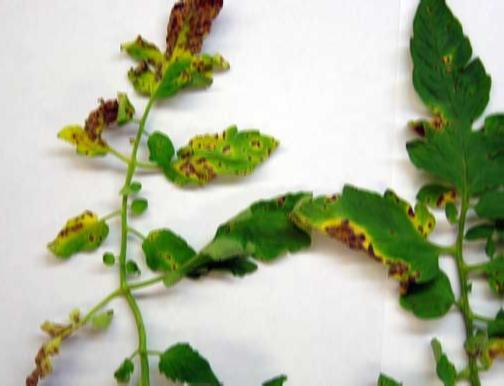Tomato Septoria leaf spot: (294, 170, 445, 302), (124, 1, 239, 93), (166, 117, 287, 186), (41, 208, 112, 274), (146, 223, 206, 288), (54, 118, 113, 161)
